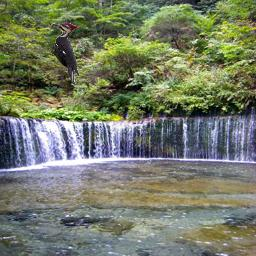Woodpecker: (48, 23, 80, 84)
